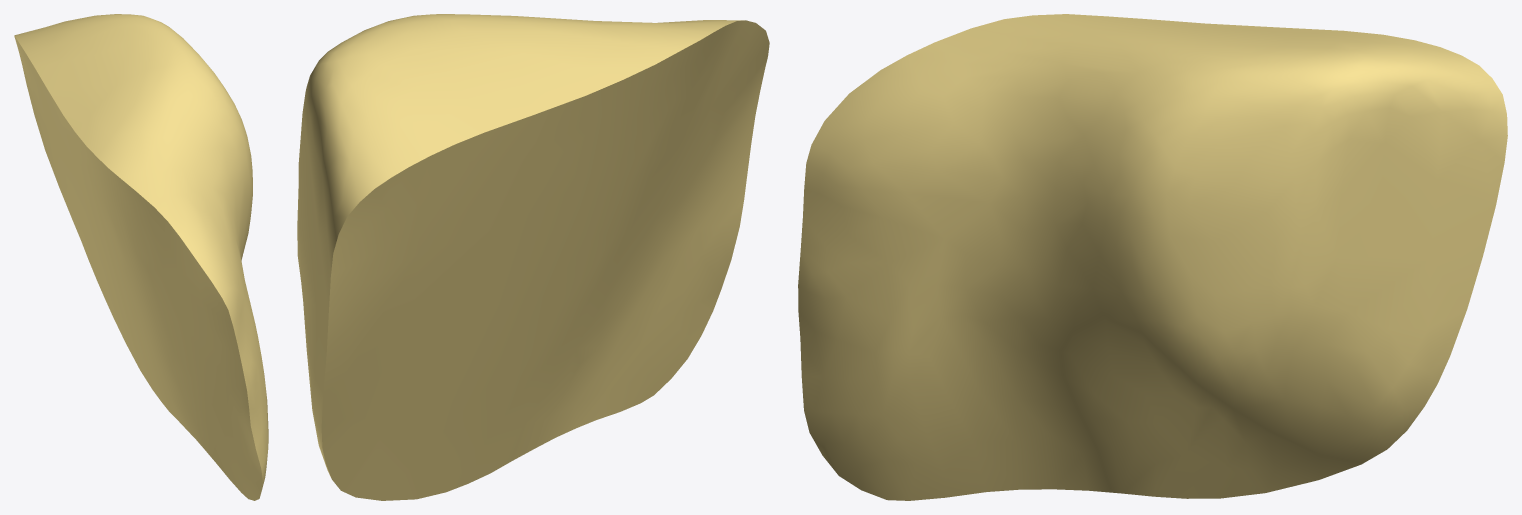
The model's file is fma73001_mm2837.glb.
3 renders of one model, left to right at view 1: azimuth 30°, elevation 25°; view 2: azimuth 150°, elevation 25°; view 3: azimuth 270°, elevation 25°, orthographic. The views are drawn at different scales.
Parts seen in each view (by area): view 1: FMA73001_MM2837; view 2: FMA73001_MM2837; view 3: FMA73001_MM2837.
Part boxes in pixels (left/top/right/bottom): FMA73001_MM2837: left=14, top=14, right=268, bottom=500; FMA73001_MM2837: left=297, top=14, right=769, bottom=500; FMA73001_MM2837: left=798, top=14, right=1507, bottom=500.
Bounding box in the file's own units: 0.00533 × 0.00907 × 0.0123.
